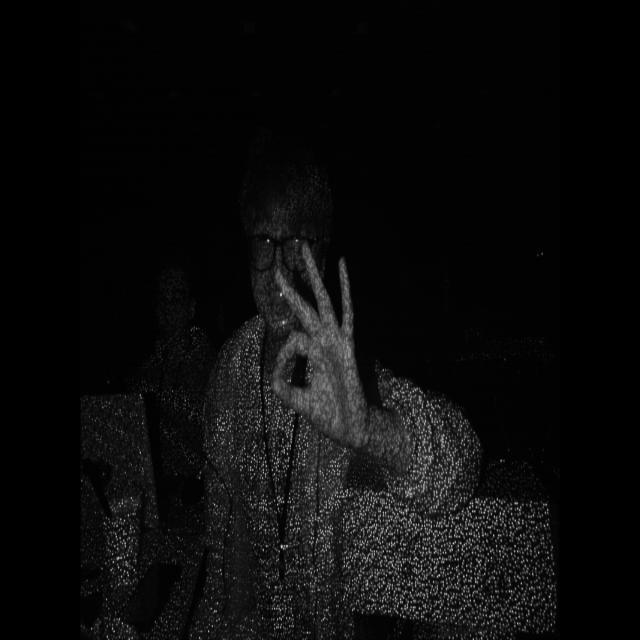F: (265, 226, 373, 457)
